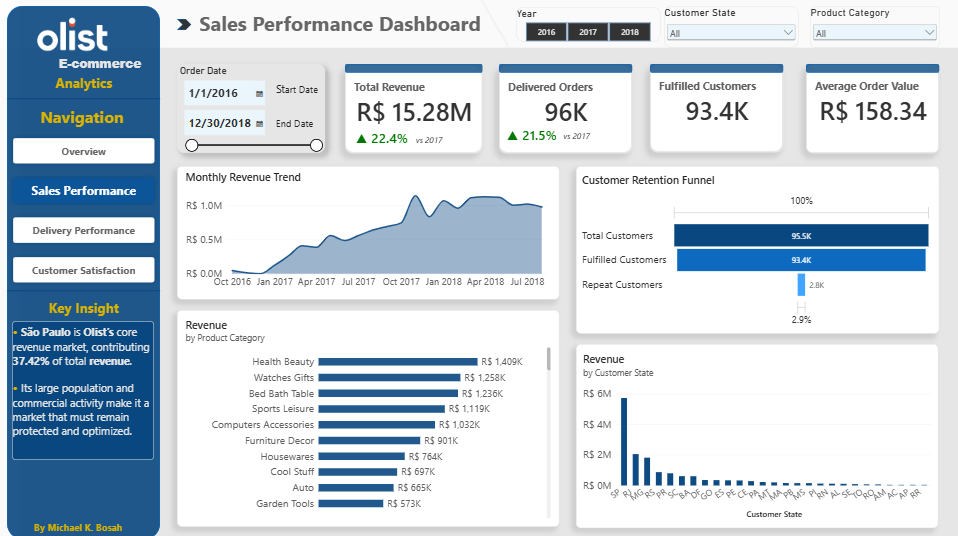

Layout of this report page (visuals, bound fields, positions):
{"tool":"powerbi","page":{"name":"Sales Performance","canvas":[1920,1080],"ordinal":1},"visuals":[{"type":"shape","box":[0,0,46.1,1080],"z":0},{"type":"cardVisual","fields":{"Data":["vw_olist_analysis.Average Order Value"]},"box":[1611.2,133.9,265.6,177.8],"z":1000},{"type":"shape","title":"s","box":[0,0,1920.7,101],"z":2000},{"type":"shape","box":[19.8,17.6,305.1,1062.4],"z":3000},{"type":"areaChart","title":"Monthly Revenue Trend","fields":{"Category":["vw_olist_analysis.order_date.Variation.Date Hierarchy.Year","vw_olist_analysis.order_date.Variation.Date Hierarchy.Month"],"Y":["vw_olist_analysis.Total Revenue"]},"box":[357.8,335.9,761.7,265.6],"z":4000},{"type":"clusteredBarChart","title":"Revenue ","fields":{"Category":["vw_olist_analysis.product_category"],"Y":["vw_olist_analysis.Total Revenue"]},"box":[357.8,623.4,761.7,432.4],"z":5000},{"type":"funnel","title":"Customer Retention Funnel","fields":{"Y":["customer_satisfaction.Total Customers","vw_olist_analysis.Fulfilled Customers","vw_olist_analysis.Repeat Customers"]},"box":[1154.6,335.9,724.4,333.7],"z":6000},{"type":"clusteredColumnChart","title":"Revenue","fields":{"Category":["vw_olist_analysis.customer_state"],"Y":["vw_olist_analysis.Total Revenue"]},"box":[1154.6,691.5,722.2,366.6],"z":7000},{"type":"cardVisual","fields":{"Data":["vw_olist_analysis.Delivered Orders"]},"box":[1001,136.1,265.6,175.6],"z":8000},{"type":"cardVisual","title":"Total Customers","fields":{"Data":["vw_olist_analysis.Fulfilled Customers"]},"box":[1301.7,133.9,265.6,175.6],"z":9000},{"type":"cardVisual","fields":{"Data":["vw_olist_analysis.Total Revenue"]},"box":[693.7,136.1,274.4,175.6],"z":10000},{"type":"slicer","title":"Order Date","fields":{"Values":["vw_olist_analysis.order_date"]},"box":[357.8,133.9,295,177],"z":11000},{"type":"slicer","title":"Customer State","fields":{"Values":["vw_olist_analysis.customer_state"]},"box":[1329.5,18.6,267.8,83.4],"z":12000},{"type":"slicer","title":"Product Category","fields":{"Values":["vw_olist_analysis.product_category"]},"box":[1620.6,18.6,259,83.4],"z":13000},{"type":"shape","box":[1301.7,133.9,265.6,17.6],"z":14000},{"type":"shape","box":[1611.2,133.9,265.6,17.6],"z":15000},{"type":"shape","box":[1001,133.9,265.6,17.6],"z":16000},{"type":"shape","box":[693.7,133.9,274.4,17.6],"z":17000},{"type":"shape","box":[357.8,43.9,28.5,22],"z":18000},{"type":"shape","box":[19.8,197.6,305.1,11],"z":19000},{"type":"shape","box":[19.8,502.7,305.1,166.8],"z":20000},{"type":"textbox","box":[555.4,166.8,96.6,37.3],"z":21000},{"type":"textbox","box":[555.4,239.3,171.2,96.6],"z":22000},{"type":"textbox","box":[24.1,599.3,298.5,46.1],"z":23000},{"type":"slicer","title":"Year","fields":{"Values":["vw_olist_analysis.order_date.Variation.Date Hierarchy.Year"]},"box":[1035,19.7,287.6,68.8],"z":24000},{"type":"cardVisual","fields":{"Data":["customer_satisfaction.Revenue Growth Indicator"]},"box":[700.2,248,158,63.7],"z":25000},{"type":"textbox","box":[772.7,272.2,171.4,53.7],"z":26000},{"type":"cardVisual","fields":{"Data":["customer_satisfaction.Delivered Order Growth Indicator"]},"box":[1001,230.5,180,83.4],"z":27000},{"type":"shape","box":[928.5,0,125.1,101],"z":28000},{"type":"textbox","box":[1066.8,265.6,173.4,64],"z":29000},{"type":"textbox","box":[30.7,645.4,283.2,276.6],"z":30000},{"type":"textbox","box":[74.6,1044.9,298.5,26.3],"z":31000},{"type":"pageNavigator","box":[24.1,272.2,298.5,305.1],"z":32000},{"type":"textbox","box":[19.8,215.1,298.5,65.9],"z":33000},{"type":"textbox","box":[24.1,151.5,298.5,50.5],"z":34000},{"type":"image","box":[0,0,304.8,155.5],"z":35000},{"type":"textbox","box":[63.7,116.3,283.2,50.5],"z":36000}]}

Visuals, with their boxes in screenshot pixels (x1, y1, x2, y2), scaled from the page's 1920x1080 canvas onto the 958x536 screenshot:
shape: box(0, 0, 23, 535)
cardVisual - vw_olist_analysis.Average Order Value: box(804, 66, 936, 155)
"s" shape: box(0, 0, 957, 50)
shape: box(10, 9, 162, 535)
"Monthly Revenue Trend" areaChart: box(179, 167, 559, 299)
"Revenue " clusteredBarChart: box(179, 309, 559, 524)
"Customer Retention Funnel" funnel: box(576, 167, 938, 332)
"Revenue" clusteredColumnChart: box(576, 343, 936, 525)
cardVisual - vw_olist_analysis.Delivered Orders: box(499, 68, 632, 155)
"Total Customers" cardVisual: box(649, 66, 782, 154)
cardVisual - vw_olist_analysis.Total Revenue: box(346, 68, 483, 155)
"Order Date" slicer: box(179, 66, 326, 154)
"Customer State" slicer: box(663, 9, 797, 51)
"Product Category" slicer: box(809, 9, 938, 51)
shape: box(649, 66, 782, 75)
shape: box(804, 66, 936, 75)
shape: box(499, 66, 632, 75)
shape: box(346, 66, 483, 75)
shape: box(179, 22, 193, 33)
shape: box(10, 98, 162, 104)
shape: box(10, 249, 162, 332)
textbox: box(277, 83, 325, 101)
textbox: box(277, 119, 363, 167)
textbox: box(12, 297, 161, 320)
"Year" slicer: box(516, 10, 660, 44)
cardVisual - customer_satisfaction.Revenue Growth Indicator: box(349, 123, 428, 155)
textbox: box(386, 135, 471, 162)
cardVisual - customer_satisfaction.Delivered Order Growth Indicator: box(499, 114, 589, 156)
shape: box(463, 0, 526, 50)
textbox: box(532, 132, 619, 164)
textbox: box(15, 320, 157, 458)
textbox: box(37, 519, 186, 532)
pageNavigator: box(12, 135, 161, 287)
textbox: box(10, 107, 159, 139)
textbox: box(12, 75, 161, 100)
image: box(0, 0, 152, 77)
textbox: box(32, 58, 173, 83)
